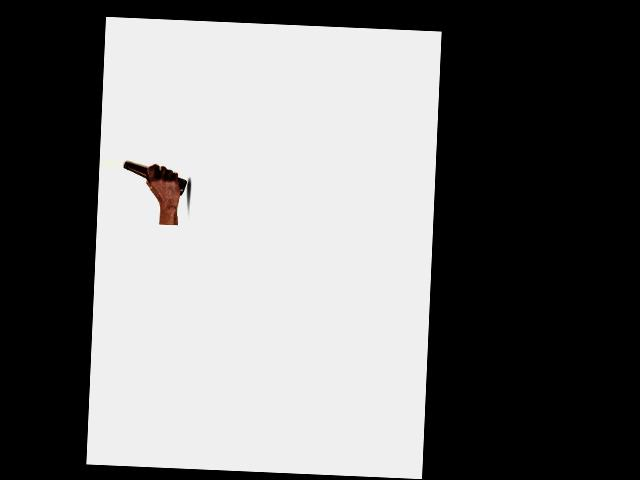beer: (123, 161, 188, 195)
